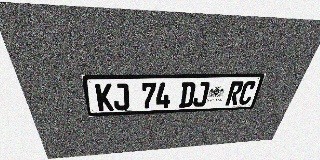4: (155, 82, 172, 109)
7: (141, 83, 156, 109)
C: (237, 81, 257, 105)
D: (179, 82, 196, 108)
J: (112, 83, 129, 110), (192, 82, 210, 107)
K: (95, 83, 114, 111)
R: (225, 81, 244, 106)
